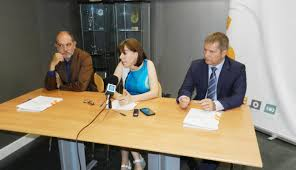person: (188, 26, 254, 105), (108, 36, 163, 105), (43, 28, 94, 84)
